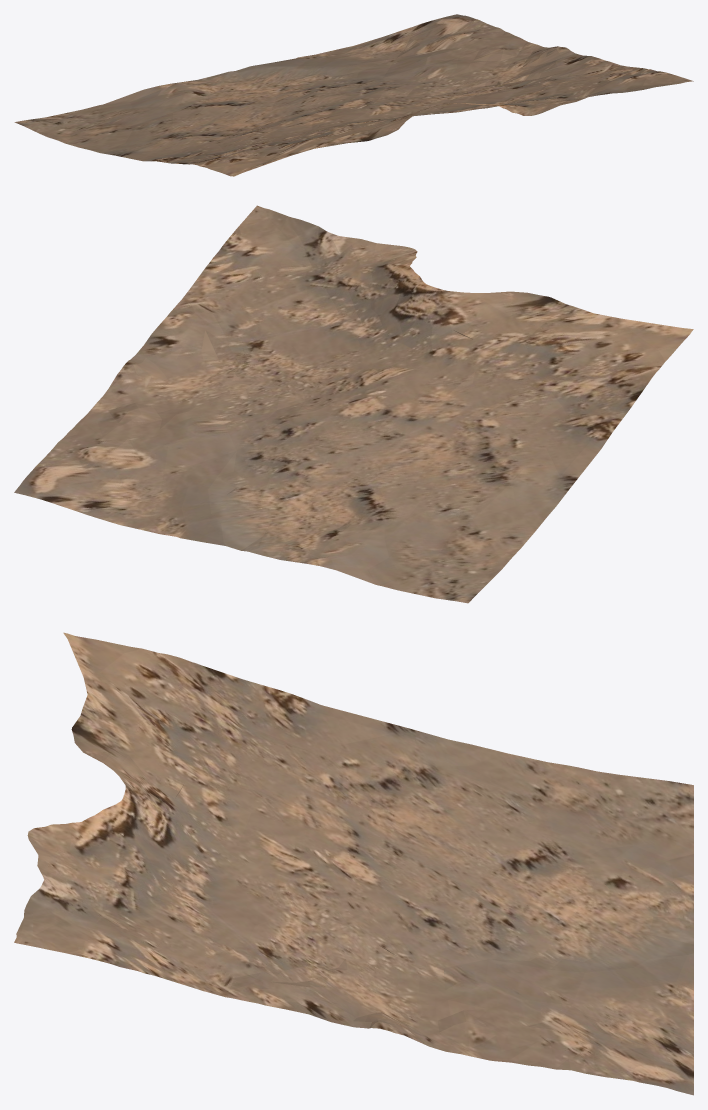
3 views of the same model, one above another, from view 1: azimuth 30°, elevation 25°; view 2: azimuth 150°, elevation 25°; view 3: azimuth 270°, elevation 25° (orthographic). The views are drawn at different scales.
Size of the model in its own units: 4.18 by 1.02 by 3.87.
Materials: 2 (2 with a texture image).
